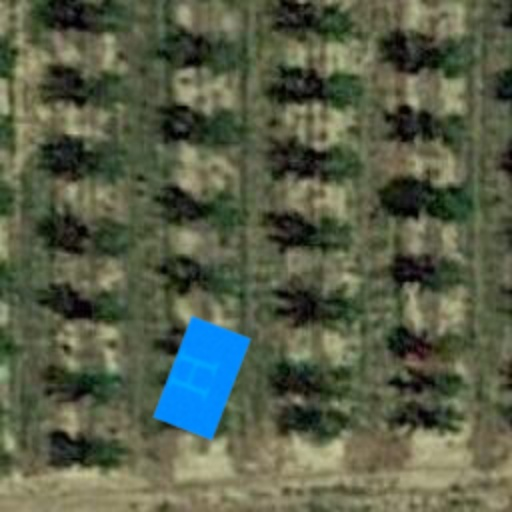rectangle: (130, 306, 274, 450)
